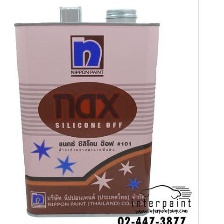cleaning_solution: (9, 5, 164, 220)
